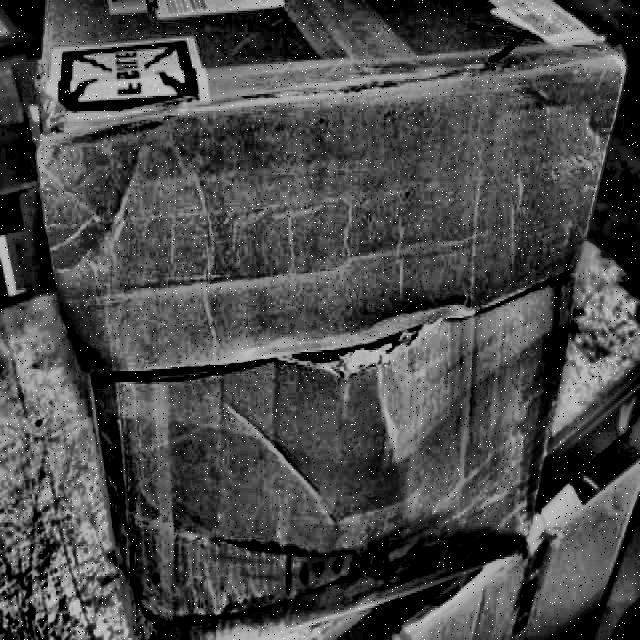box: (20, 0, 638, 639)
hole: (288, 334, 400, 382)
